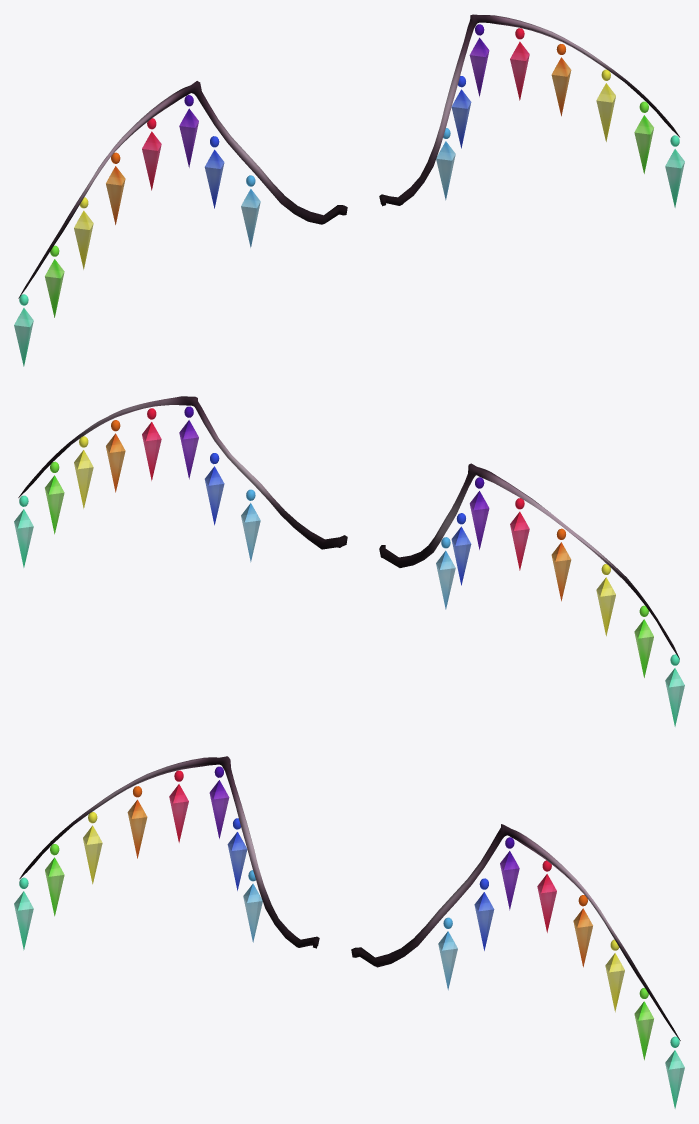
File: wings.obj
The picture shows the model from 3 angles, top to bottom: view 1: azimuth 30°, elevation 25°; view 2: azimuth 150°, elevation 25°; view 3: azimuth 330°, elevation 25°; orthographic projection.
Visible parts, largest first — view 1: Material25_フランドール_mesh_フランドール.024, Material24_フランドール_mesh_フランドール.002; view 2: Material25_フランドール_mesh_フランドール.024, Material24_フランドール_mesh_フランドール.002; view 3: Material25_フランドール_mesh_フランドール.024, Material24_フランドール_mesh_フランドール.002.
Part boxes in pixels (x1,y1,x2,y2): Material25_フランドール_mesh_フランドール.024: (14, 24, 684, 366); Material24_フランドール_mesh_フランドール.002: (18, 14, 679, 298); Material25_フランドール_mesh_フランドール.024: (14, 406, 684, 726); Material24_フランドール_mesh_フランドール.002: (18, 396, 679, 659); Material25_フランドール_mesh_フランドール.024: (14, 766, 684, 1108); Material24_フランドール_mesh_フランドール.002: (19, 756, 680, 1040).
Bounding box in the file's own units: 1.27 × 0.4149 × 0.1207.
